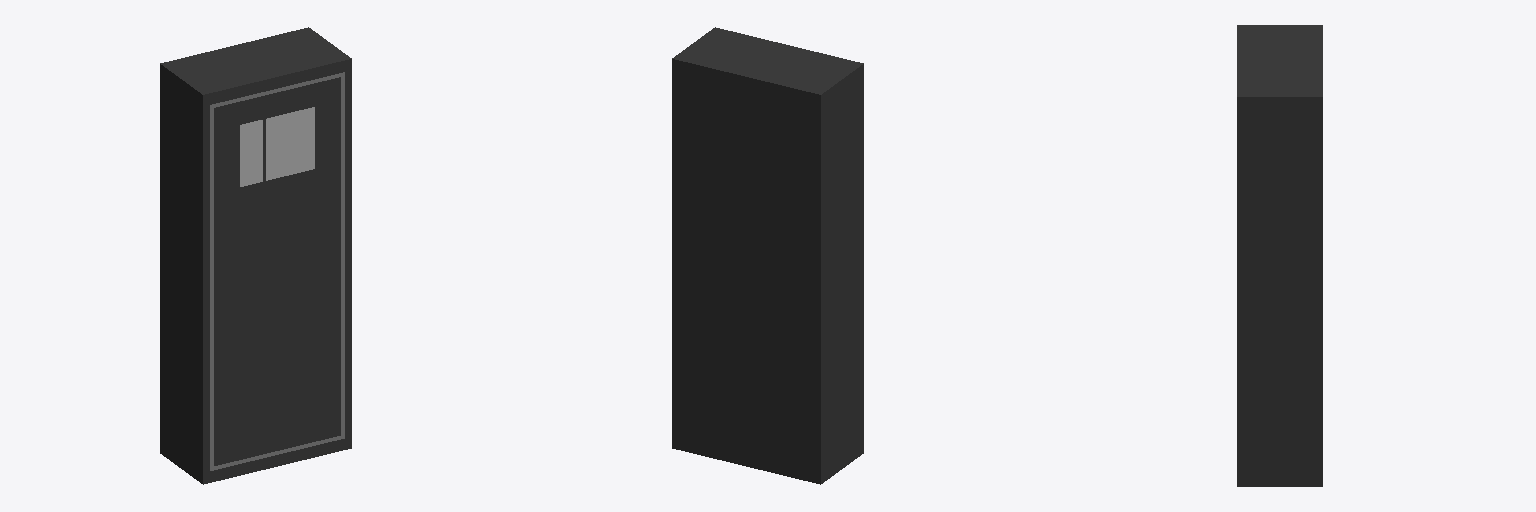
3 views of the same model, side by side, from view 1: azimuth 30°, elevation 25°; view 2: azimuth 150°, elevation 25°; view 3: azimuth 270°, elevation 25° (orthographic).
Parts seen in each view (by area): view 1: safe_80; view 2: safe_80; view 3: safe_80.
Part boxes in pixels (x1,y1,x2,y2): safe_80: (160, 27, 351, 484); safe_80: (672, 27, 863, 484); safe_80: (1237, 25, 1322, 486).
Bounding box in the file's own units: 4 × 10 × 2.
Materials: 1 (1 with a texture image).